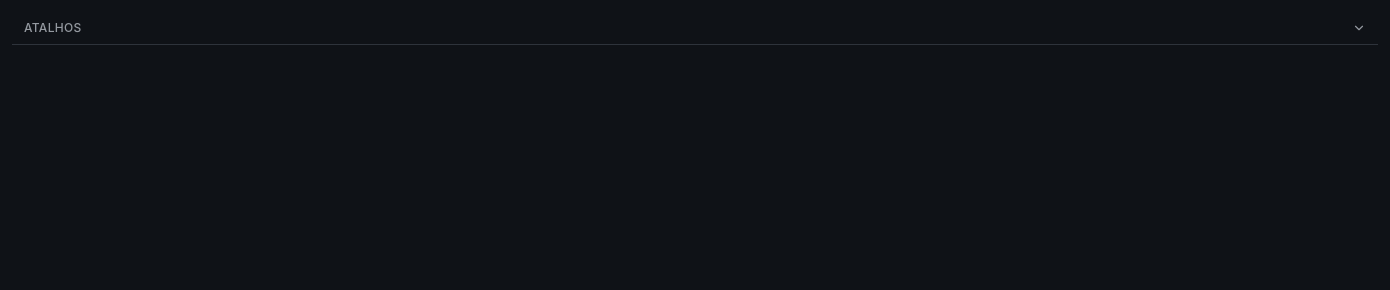
Test case: KeyboardShortcutsPanel › abre e mostra as seis acoes com a tecla atual
Click the button "Atalhos" at {"x": 53, "y": 28}, box [12,12,1378,44]
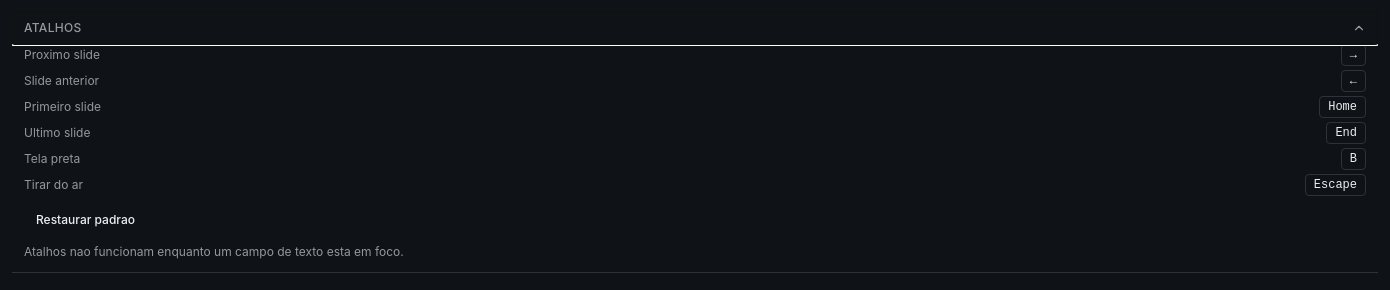
Check: the text "Proximo slide" is shown, box [24,47,100,63]
Check: the text "Tela preta" is shown, box [24,151,80,167]
Check: the button "B" is shown, box [1341,148,1366,170]
